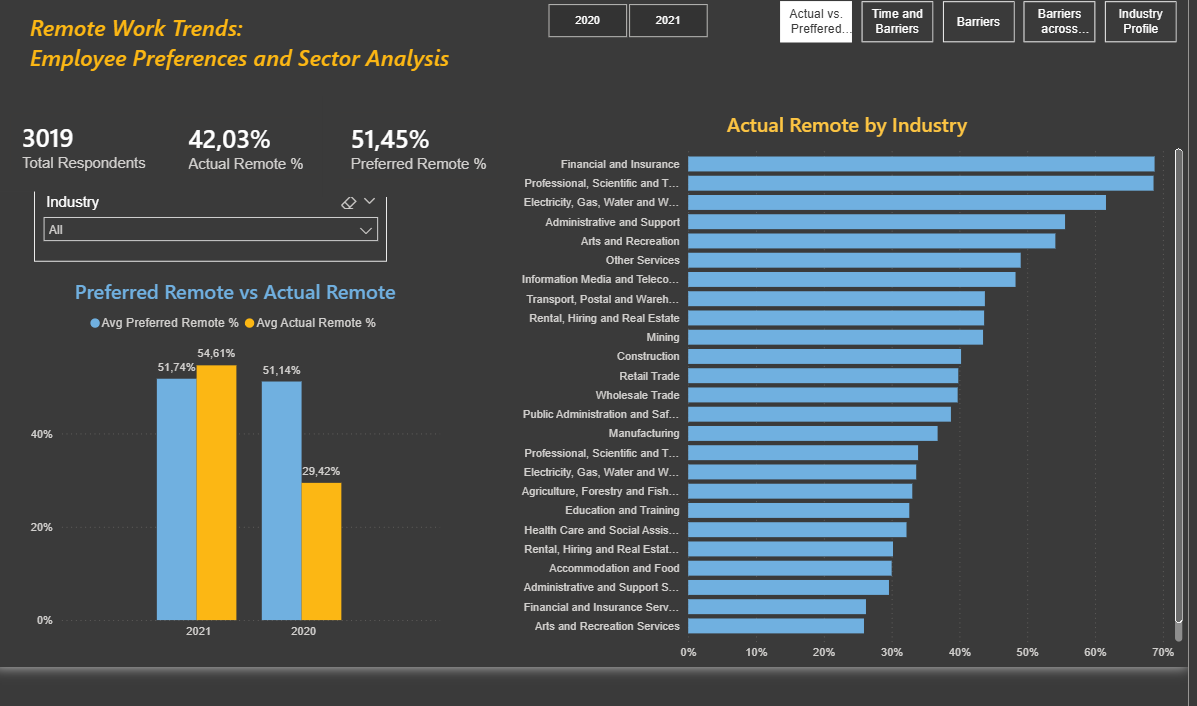

The page's visual inventory and layout, read from the dashboard file:
{"tool":"powerbi","page":{"name":" Actual vs. Preffered Remote","canvas":[1280,720],"ordinal":0},"visuals":[{"type":"slicer","fields":{"Values":["Combined_data.Year"]},"box":[568.1,2.7,220.9,49.4],"z":0},{"type":"slicer","fields":{"Values":["Combined_data.Industry"]},"box":[42.5,207.2,378.7,78.2],"z":1000},{"type":"cardVisual","fields":{"Data":["Combined_data.Total Respondents"]},"box":[0,109.3,199.3,101],"z":2000},{"type":"cardVisual","fields":{"Data":["Combined_data.Avg Actual Remote %"]},"box":[178.5,113.5,189.6,96.9],"z":3000},{"type":"cardVisual","fields":{"Data":["Combined_data.Avg Preferred Remote %"]},"box":[352.2,108.8,205.4,107.6],"z":4000},{"type":"clusteredColumnChart","title":"Preferred Remote vs Actual Remote","fields":{"Category":["Combined_data.Year"],"Y":["Combined_data.Avg Preferred Remote %","Combined_data.Avg Actual Remote %"]},"box":[32.9,303.3,450.1,395.2],"z":5000},{"type":"clusteredBarChart","title":"Actual Remote by Industry","fields":{"Category":["Combined_data.Industry"],"Y":["Combined_data.Avg Actual Remote %"]},"box":[549.9,122.9,729.9,597.1],"z":6000},{"type":"pageNavigator","box":[843.3,7.2,427.1,44.6],"z":7000},{"type":"textbox","box":[33.8,13.3,534.5,77.2],"z":8000}]}

Visuals, with their boxes on the page's 1280x720 design canvas (x1, y1, x2, y2). These are canvas units, not pixel positions in the 1197x706 screenshot, which may show the page scaled, cropped or inside an application window:
slicer - Combined_data.Year: l=568, t=3, r=789, b=52
slicer - Combined_data.Industry: l=42, t=207, r=421, b=285
cardVisual - Combined_data.Total Respondents: l=0, t=109, r=199, b=210
cardVisual - Combined_data.Avg Actual Remote %: l=178, t=114, r=368, b=210
cardVisual - Combined_data.Avg Preferred Remote %: l=352, t=109, r=558, b=216
"Preferred Remote vs Actual Remote" clusteredColumnChart: l=33, t=303, r=483, b=698
"Actual Remote by Industry" clusteredBarChart: l=550, t=123, r=1280, b=720
pageNavigator: l=843, t=7, r=1270, b=52
textbox: l=34, t=13, r=568, b=90
